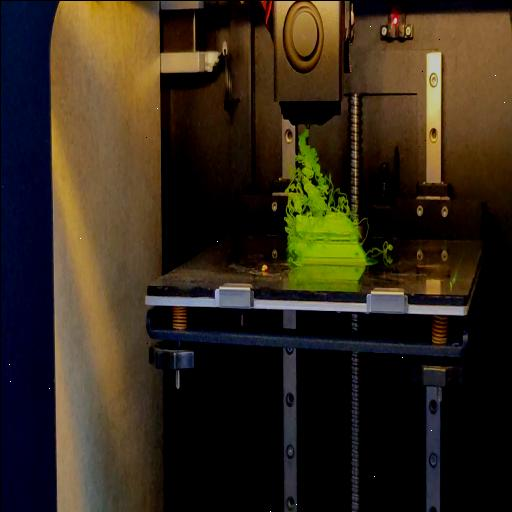spaghetti: (286, 126, 354, 222), (284, 222, 296, 268), (354, 213, 369, 245), (367, 240, 393, 256)
